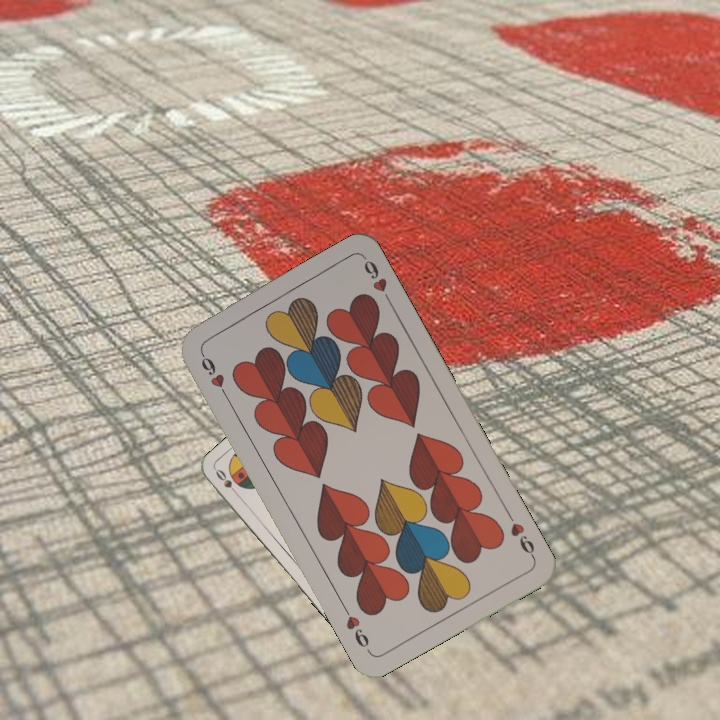H9: (503, 508, 538, 562), (196, 347, 231, 401)
SO: (211, 465, 242, 499)
